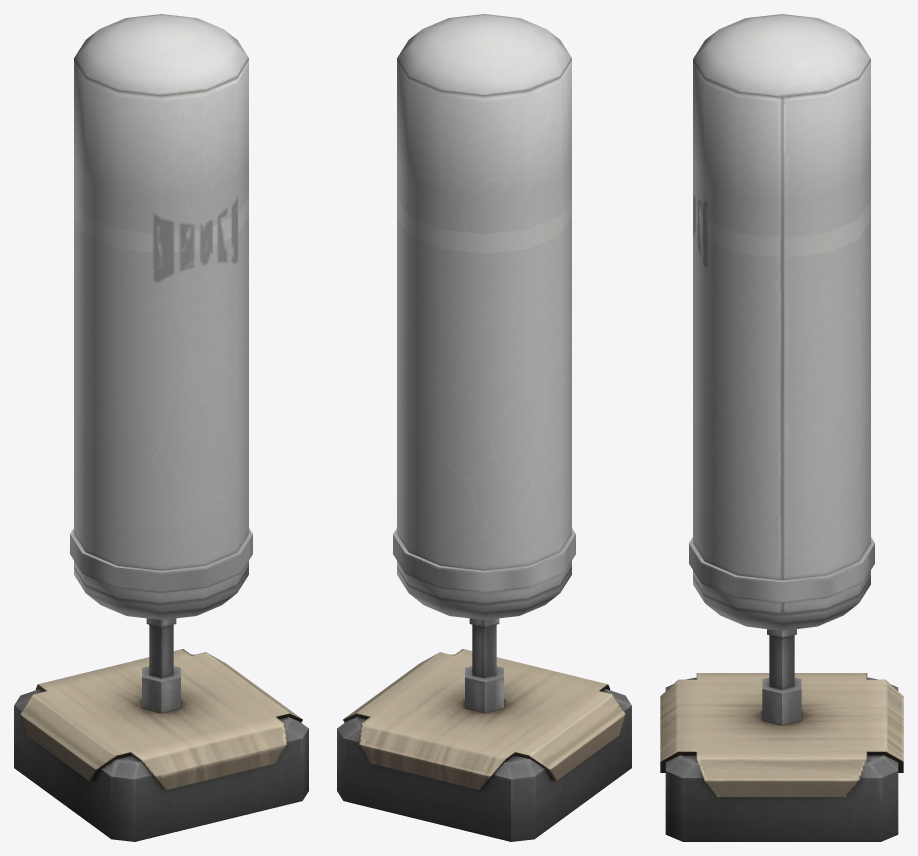
Rendered from jj_ty_jianshengqi02_01.FBX.
The picture shows the model from 3 angles, left to right: view 1: azimuth 30°, elevation 25°; view 2: azimuth 150°, elevation 25°; view 3: azimuth 270°, elevation 25°; orthographic projection.
Parts seen in each view (by area): view 1: jj_ty_jianshengqi02_01; view 2: jj_ty_jianshengqi02_01; view 3: jj_ty_jianshengqi02_01.
Part boxes in pixels (bbox=[...]): jj_ty_jianshengqi02_01: bbox=[14, 14, 308, 841]; jj_ty_jianshengqi02_01: bbox=[337, 14, 631, 841]; jj_ty_jianshengqi02_01: bbox=[660, 14, 903, 841].
Bounding box in the file's own units: 22.44 × 77.6 × 22.44.
Materials: 1 (1 with a texture image).
